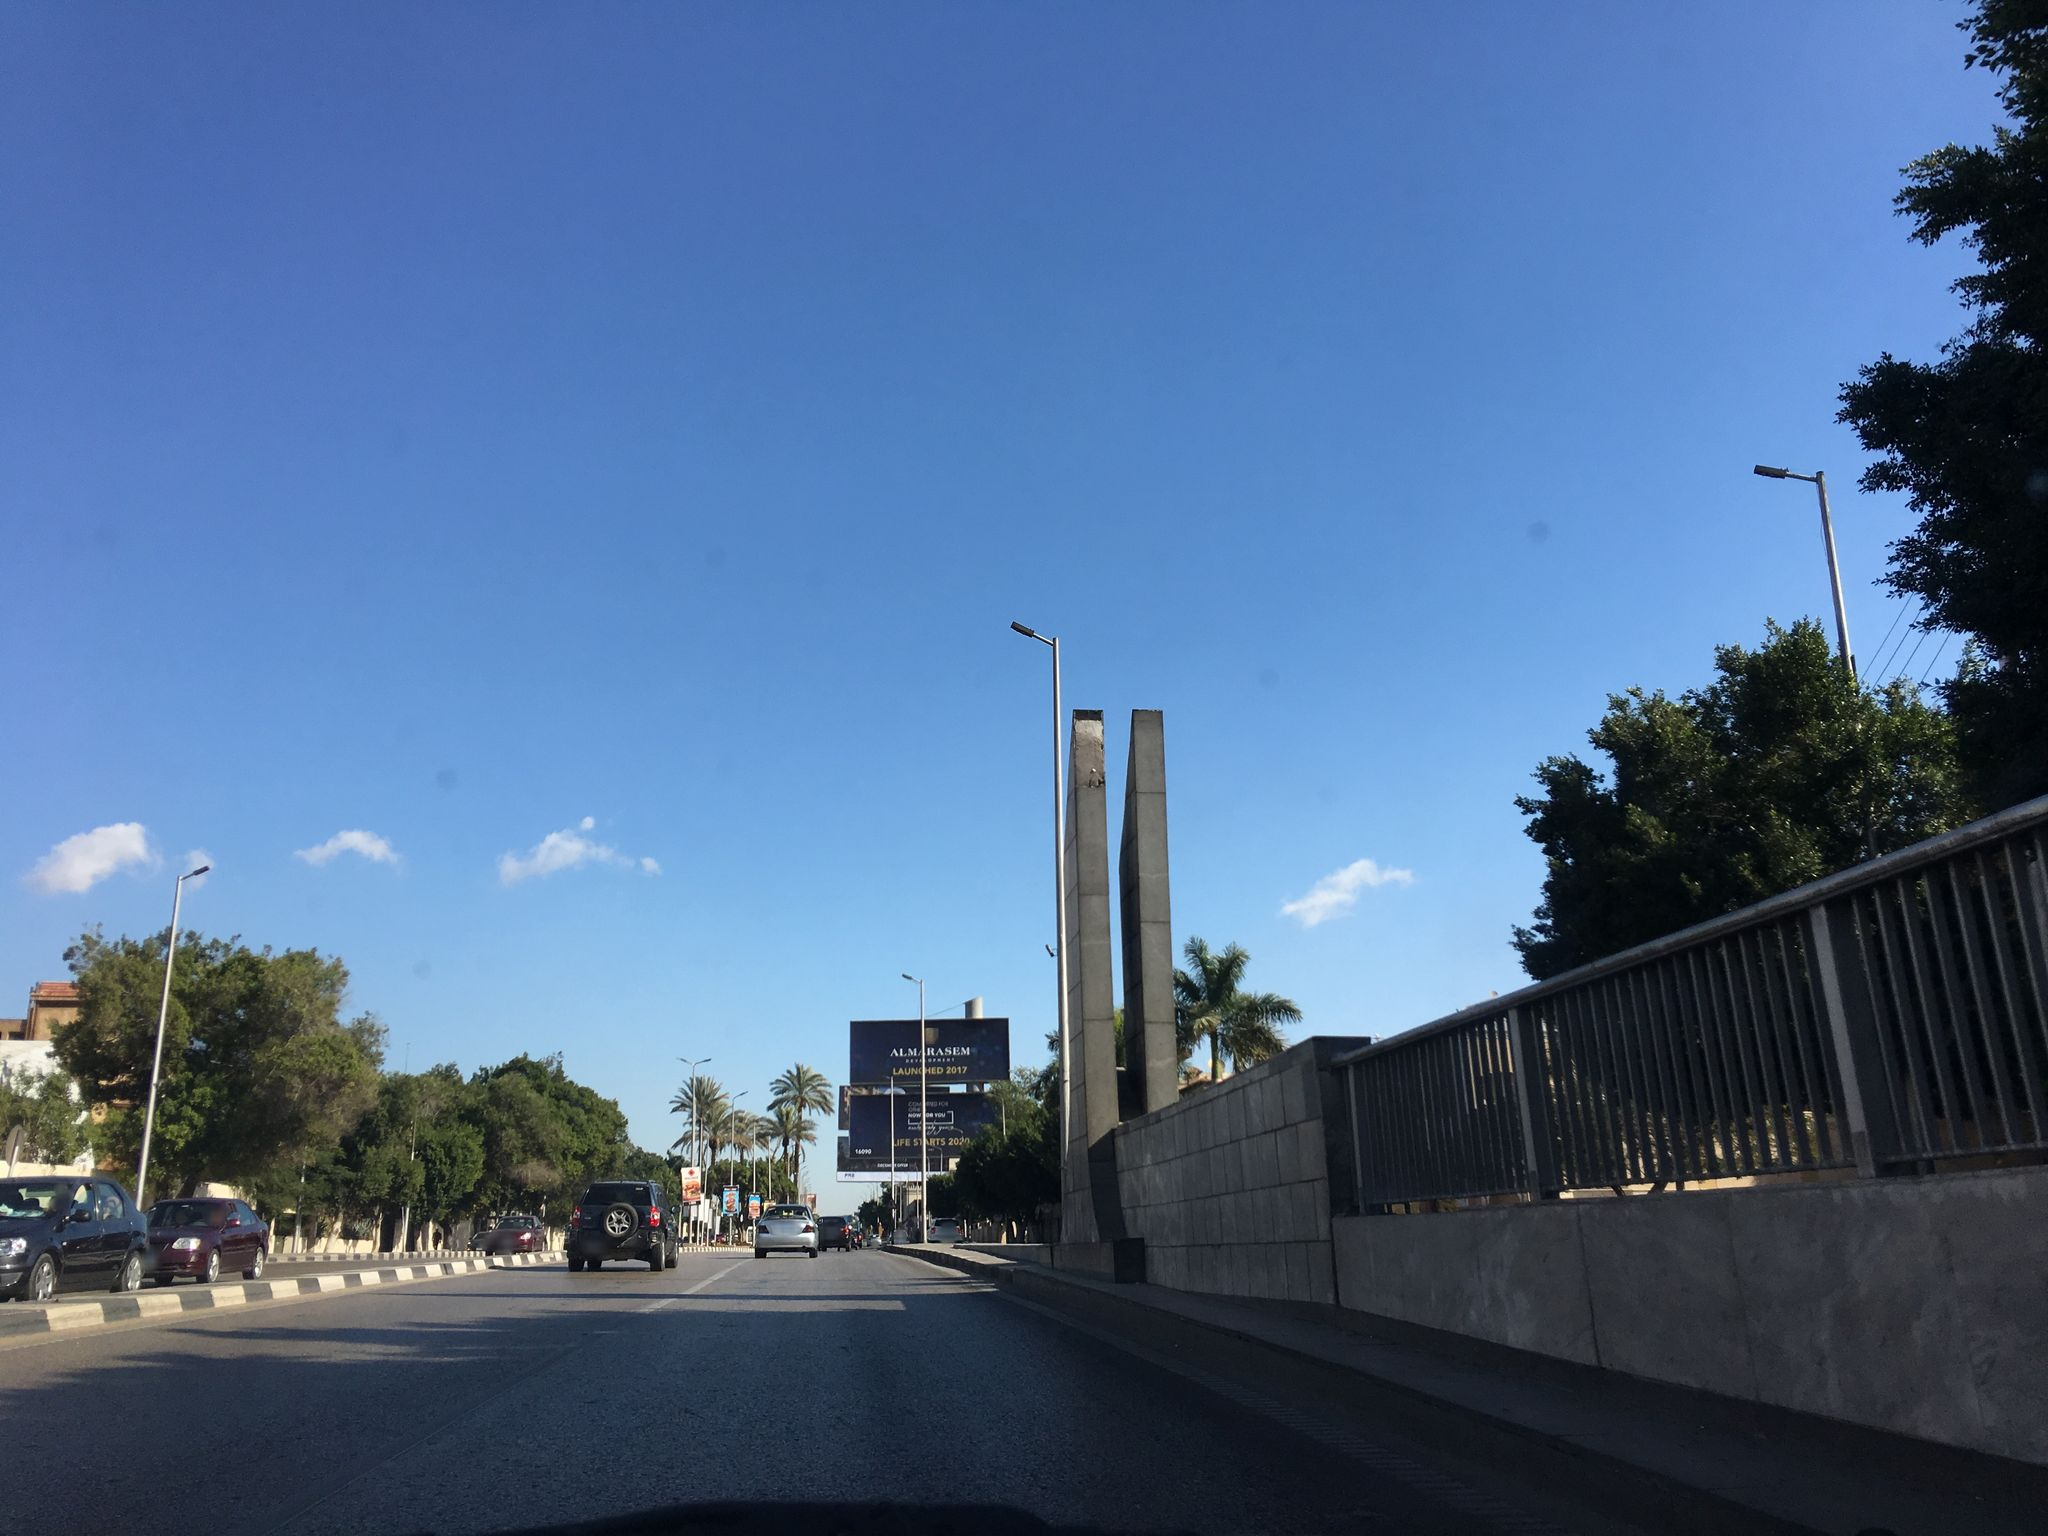car: (0, 1175, 148, 1297), (561, 1179, 684, 1275), (140, 1197, 271, 1284), (753, 1204, 819, 1257), (484, 1215, 547, 1255), (816, 1217, 851, 1250), (927, 1217, 963, 1242), (468, 1229, 490, 1254)
